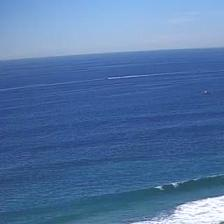surfer: (145, 216, 148, 218)
